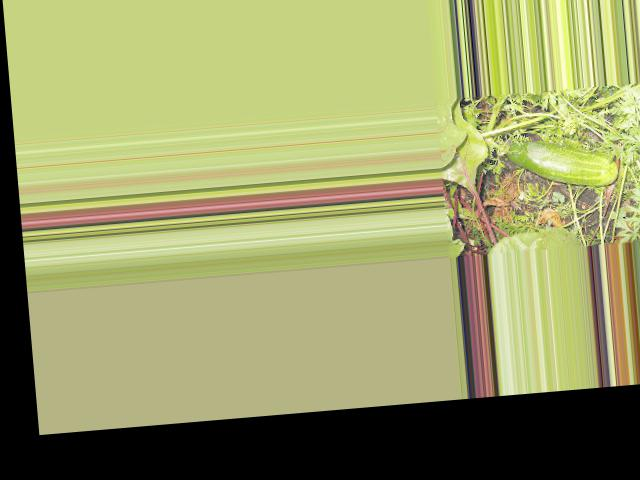cucumber: (504, 131, 617, 193)
